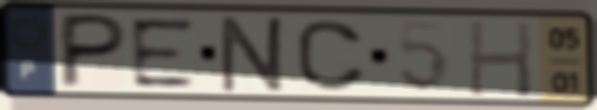5: (396, 18, 455, 96)
C: (292, 18, 371, 94)
E: (125, 15, 200, 90)
H: (465, 17, 536, 101)
N: (216, 13, 293, 96)
P: (54, 10, 132, 91)
